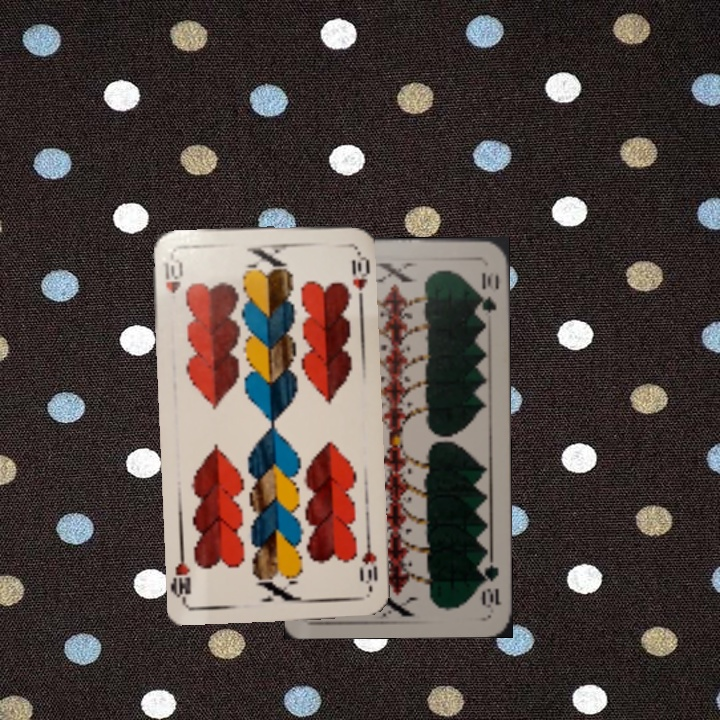G10: (477, 552, 504, 611)
H10: (356, 534, 380, 593), (158, 252, 184, 296)
